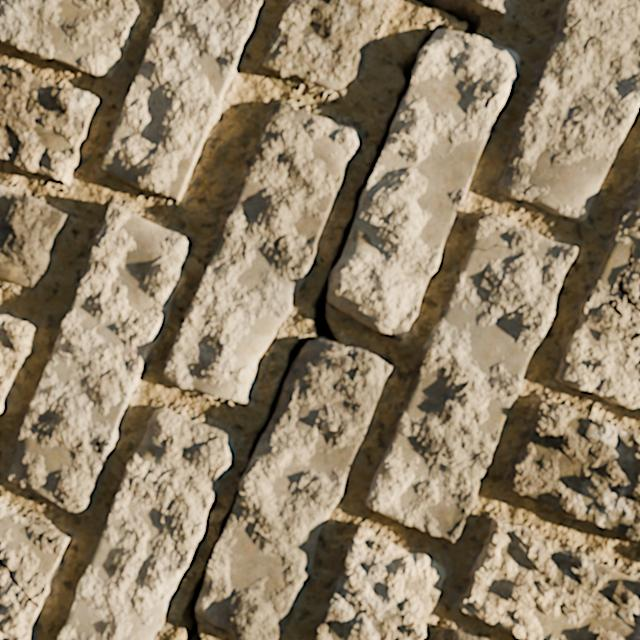crack: (179, 0, 519, 639), (366, 212, 577, 541), (164, 103, 359, 403), (7, 203, 188, 512), (57, 408, 233, 639), (99, 0, 262, 201), (498, 0, 639, 221), (459, 518, 639, 639), (555, 155, 639, 409), (509, 399, 639, 542), (315, 525, 446, 639), (0, 60, 100, 185), (0, 0, 142, 78), (263, 0, 384, 90), (0, 502, 70, 639), (0, 185, 69, 288), (0, 314, 36, 413), (448, 629, 484, 639)
